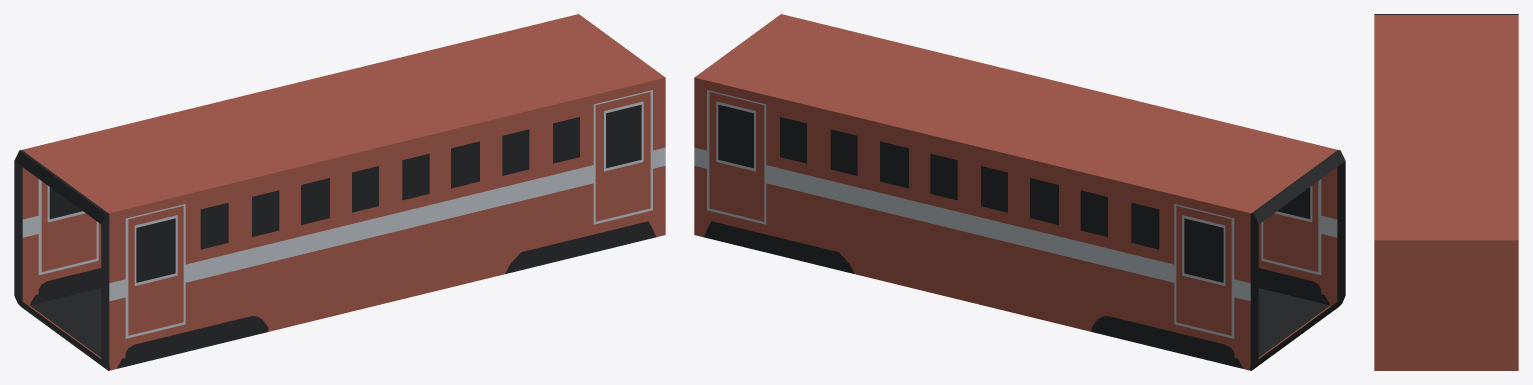
File: Red_Train_End_01.fbx
3 renders of one model, left to right at view 1: azimuth 30°, elevation 25°; view 2: azimuth 150°, elevation 25°; view 3: azimuth 270°, elevation 25°, orthographic. The views are drawn at different scales.
Parts seen in each view (by area): view 1: Body; view 2: Body; view 3: Body.
Boxes of the visible parts, x1,y1,x2,y2 form: Body: (14, 14, 665, 370); Body: (694, 14, 1345, 370); Body: (1374, 14, 1518, 370).
Size of the model in its own units: 563 by 150 by 150.
